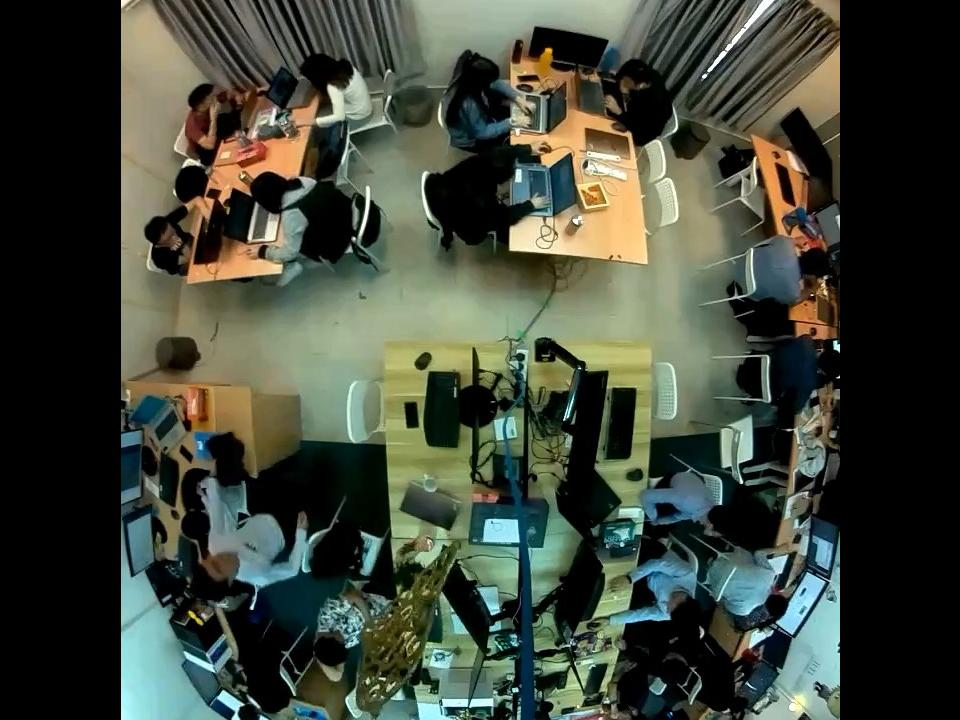name-tag: (240, 540, 258, 553)
